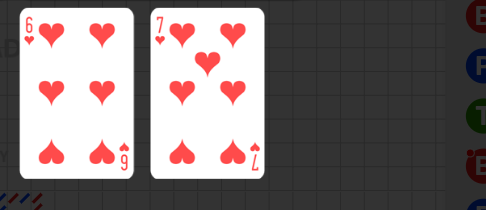6H: (23, 15, 36, 47)
7H: (248, 140, 261, 172)
